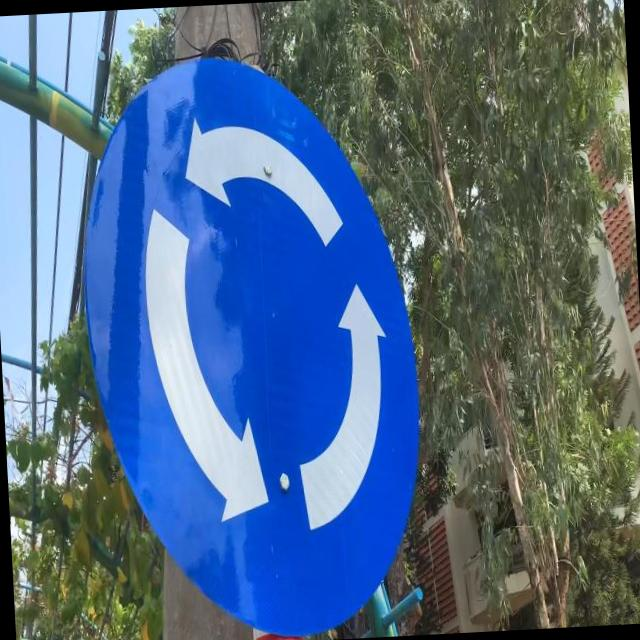R-303: (69, 46, 430, 640)
